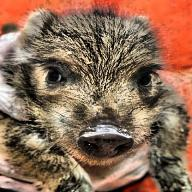boar: (0, 6, 192, 192)
